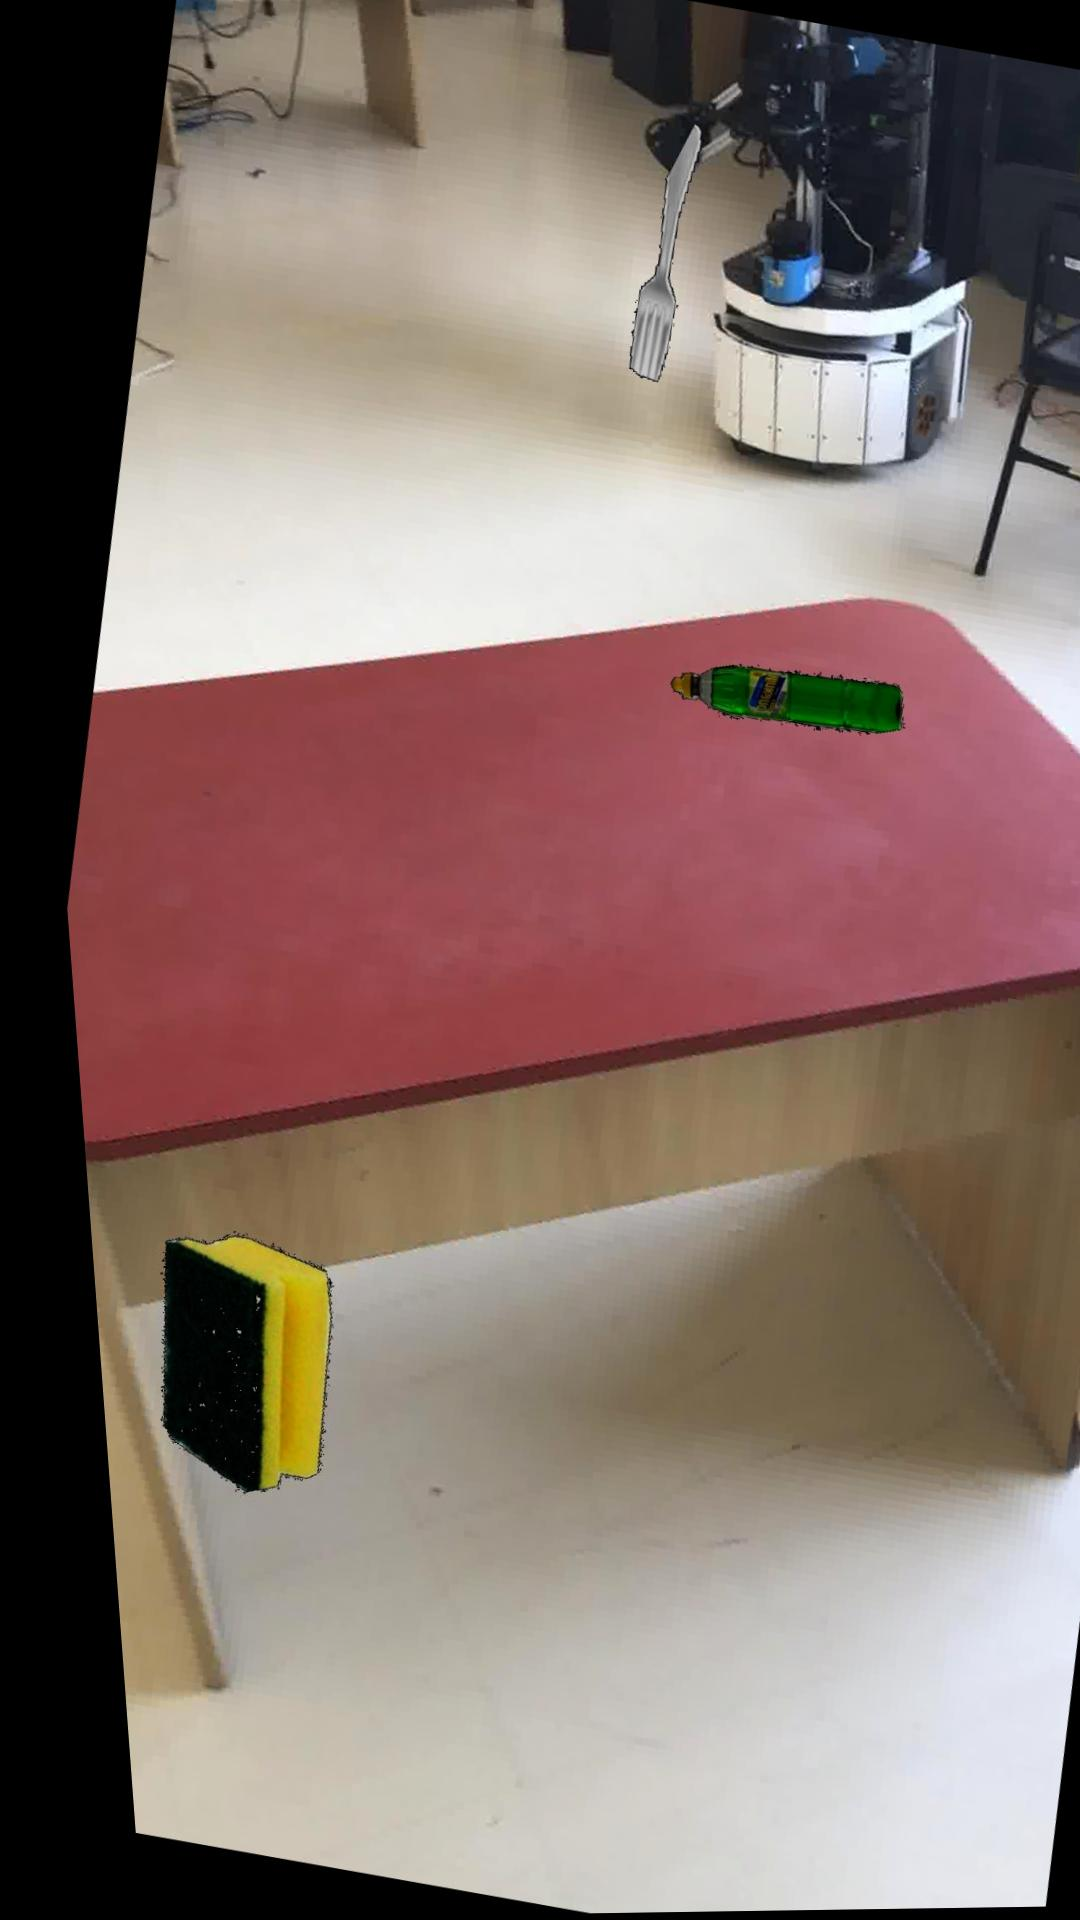cleaner: (662, 665, 893, 736)
fork: (625, 125, 702, 382)
sponge: (141, 1234, 314, 1491)
